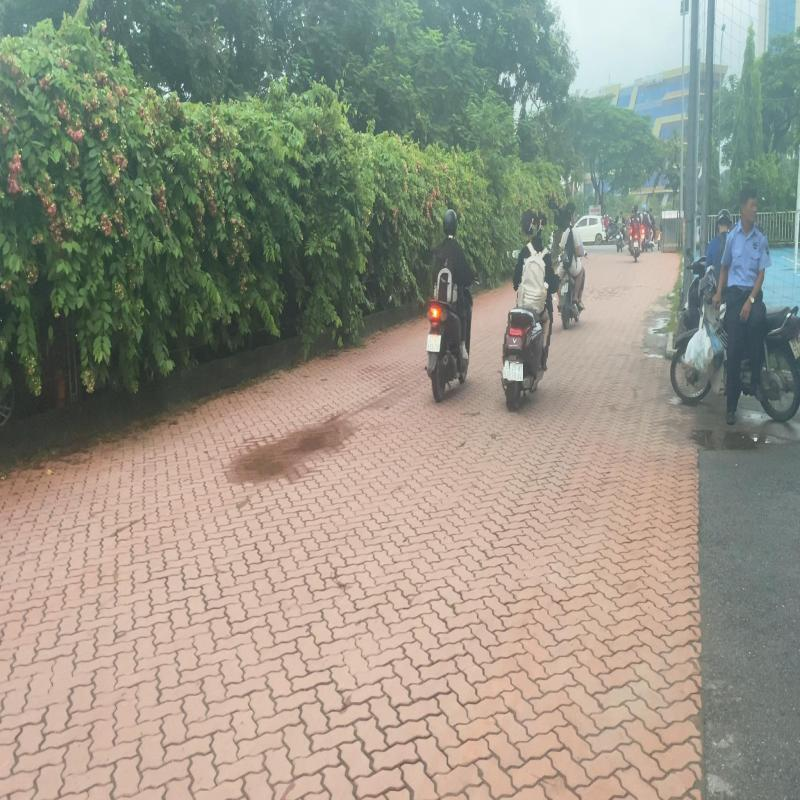licenseplate: (508, 362, 523, 381)
motorcyclist: (498, 206, 567, 415)
nohelmet: (520, 209, 538, 235)
